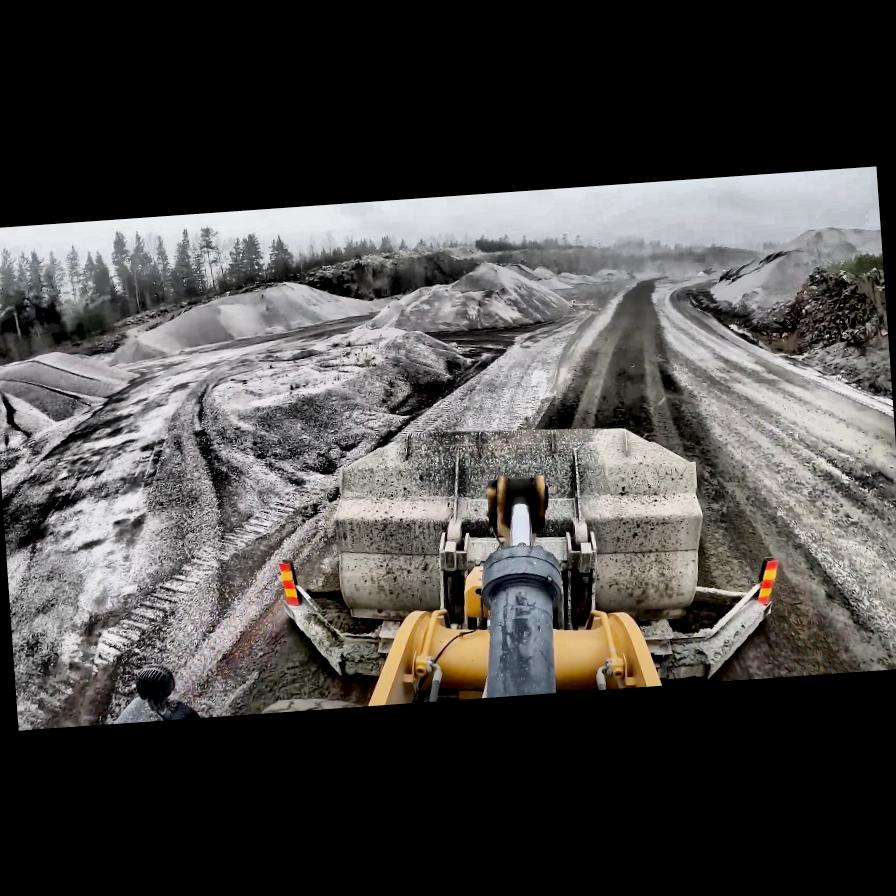anchor: (485, 472, 554, 545)
pile of gravel: (230, 320, 487, 480), (684, 223, 886, 317), (129, 277, 351, 357), (369, 256, 578, 338), (0, 343, 146, 449), (326, 320, 475, 391), (778, 223, 884, 269), (673, 241, 766, 278), (454, 260, 522, 294), (554, 267, 616, 286), (503, 260, 553, 282), (530, 264, 558, 279)
